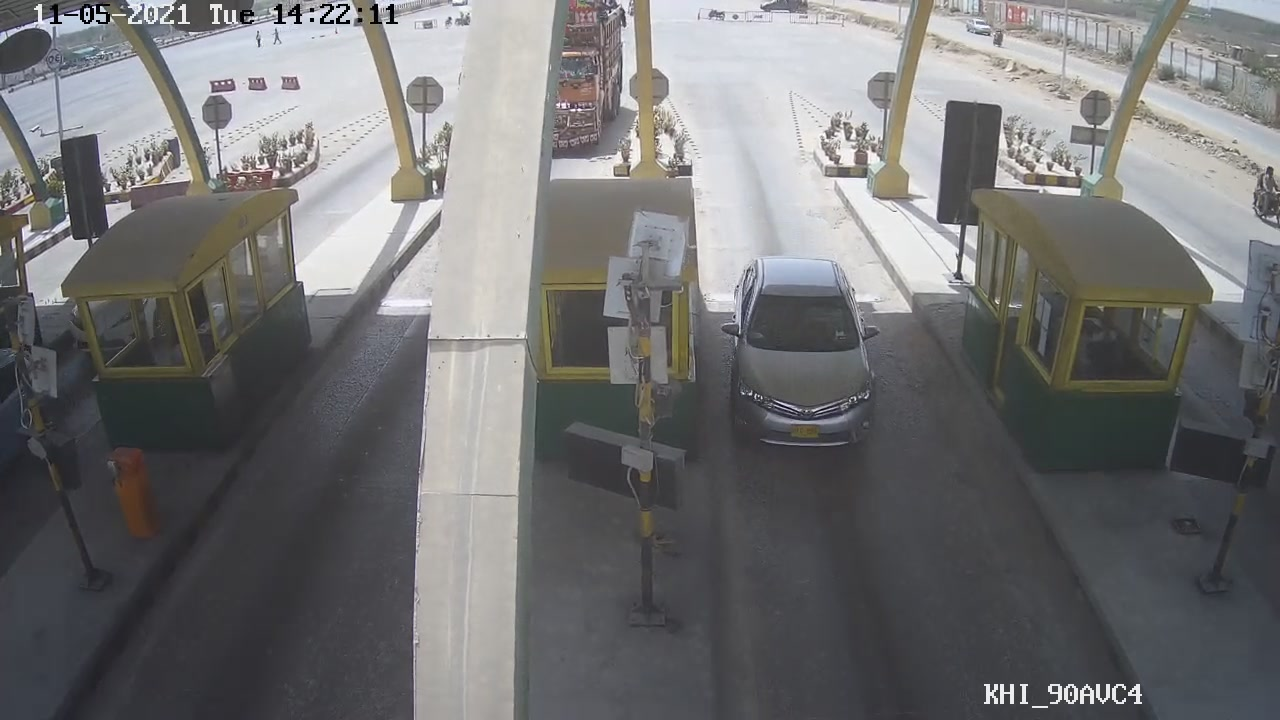F1: (718, 248, 885, 466)
